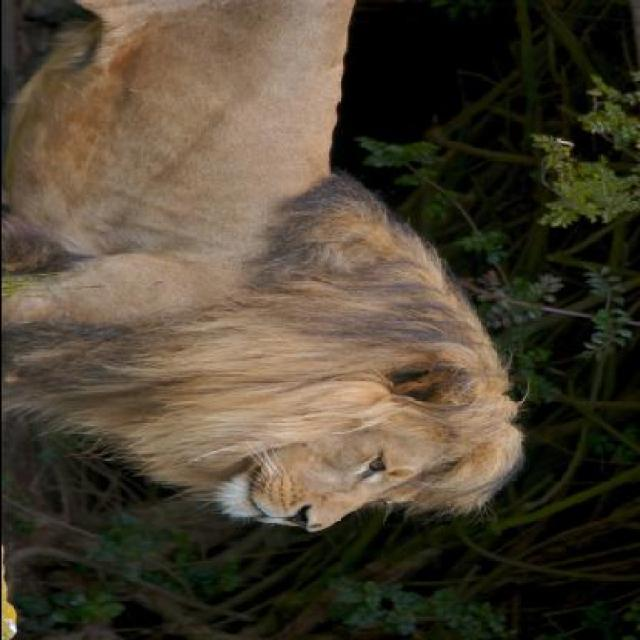Lion: (1, 2, 528, 543)
